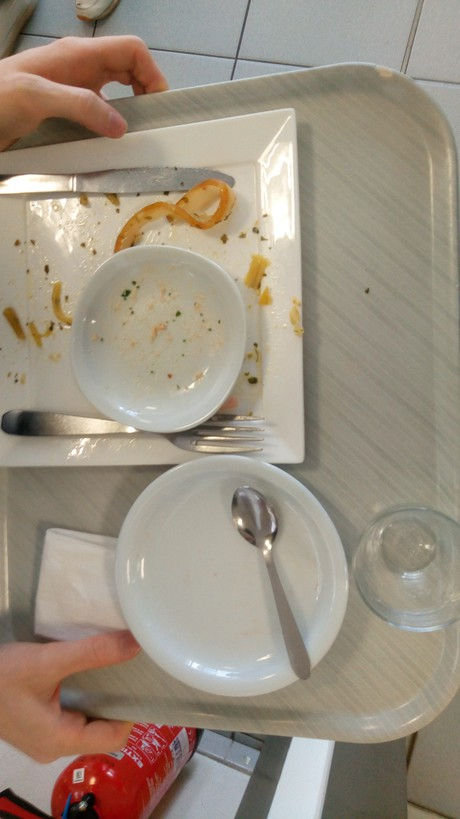cup: (347, 477, 460, 630)
cutlery: (220, 482, 328, 686), (2, 394, 273, 458), (1, 151, 249, 202)
orga: (113, 183, 240, 247)
trash: (25, 530, 153, 641)
